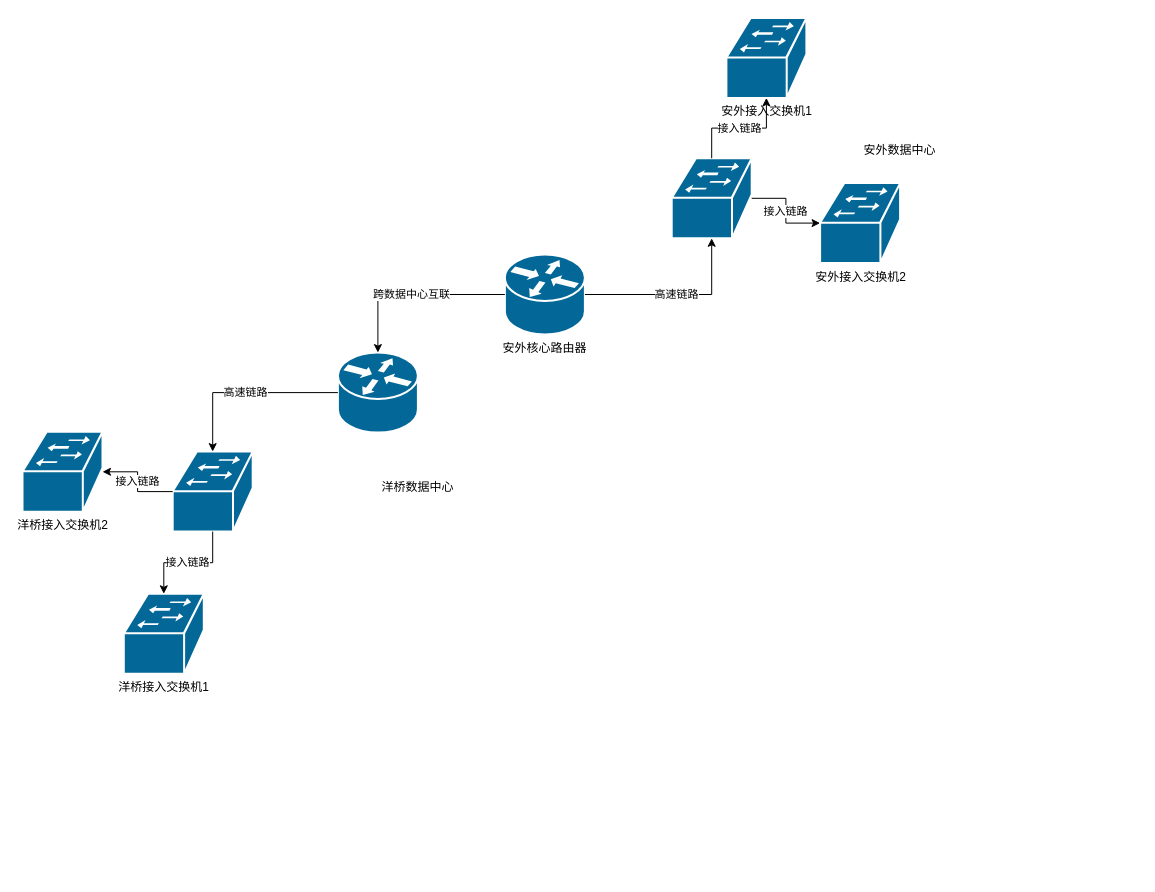
Some shapes in this 1155 by 892 pixel diagram are drawn without their labels. Here are the shapes that lost their labels. From the top down, the centre of each, then its label:
point (711, 198): 安外汇聚交换机
point (377, 392): 洋桥核心路由器
point (212, 491): 洋桥汇聚交换机
